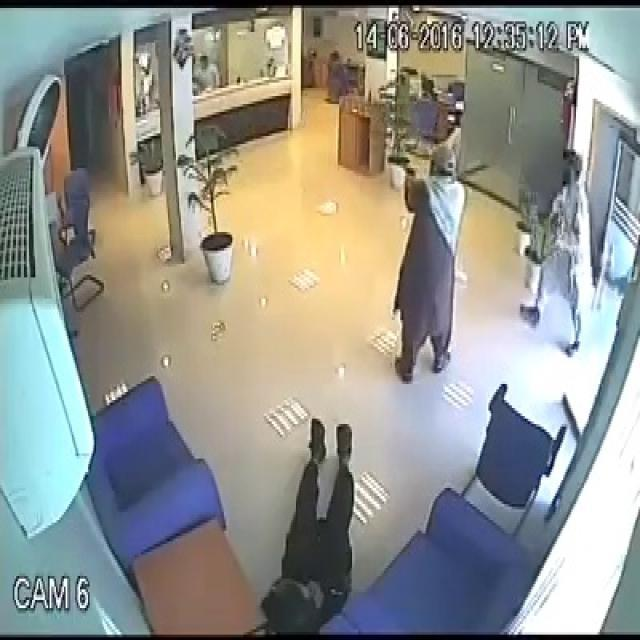weapon: (403, 160, 413, 176)
